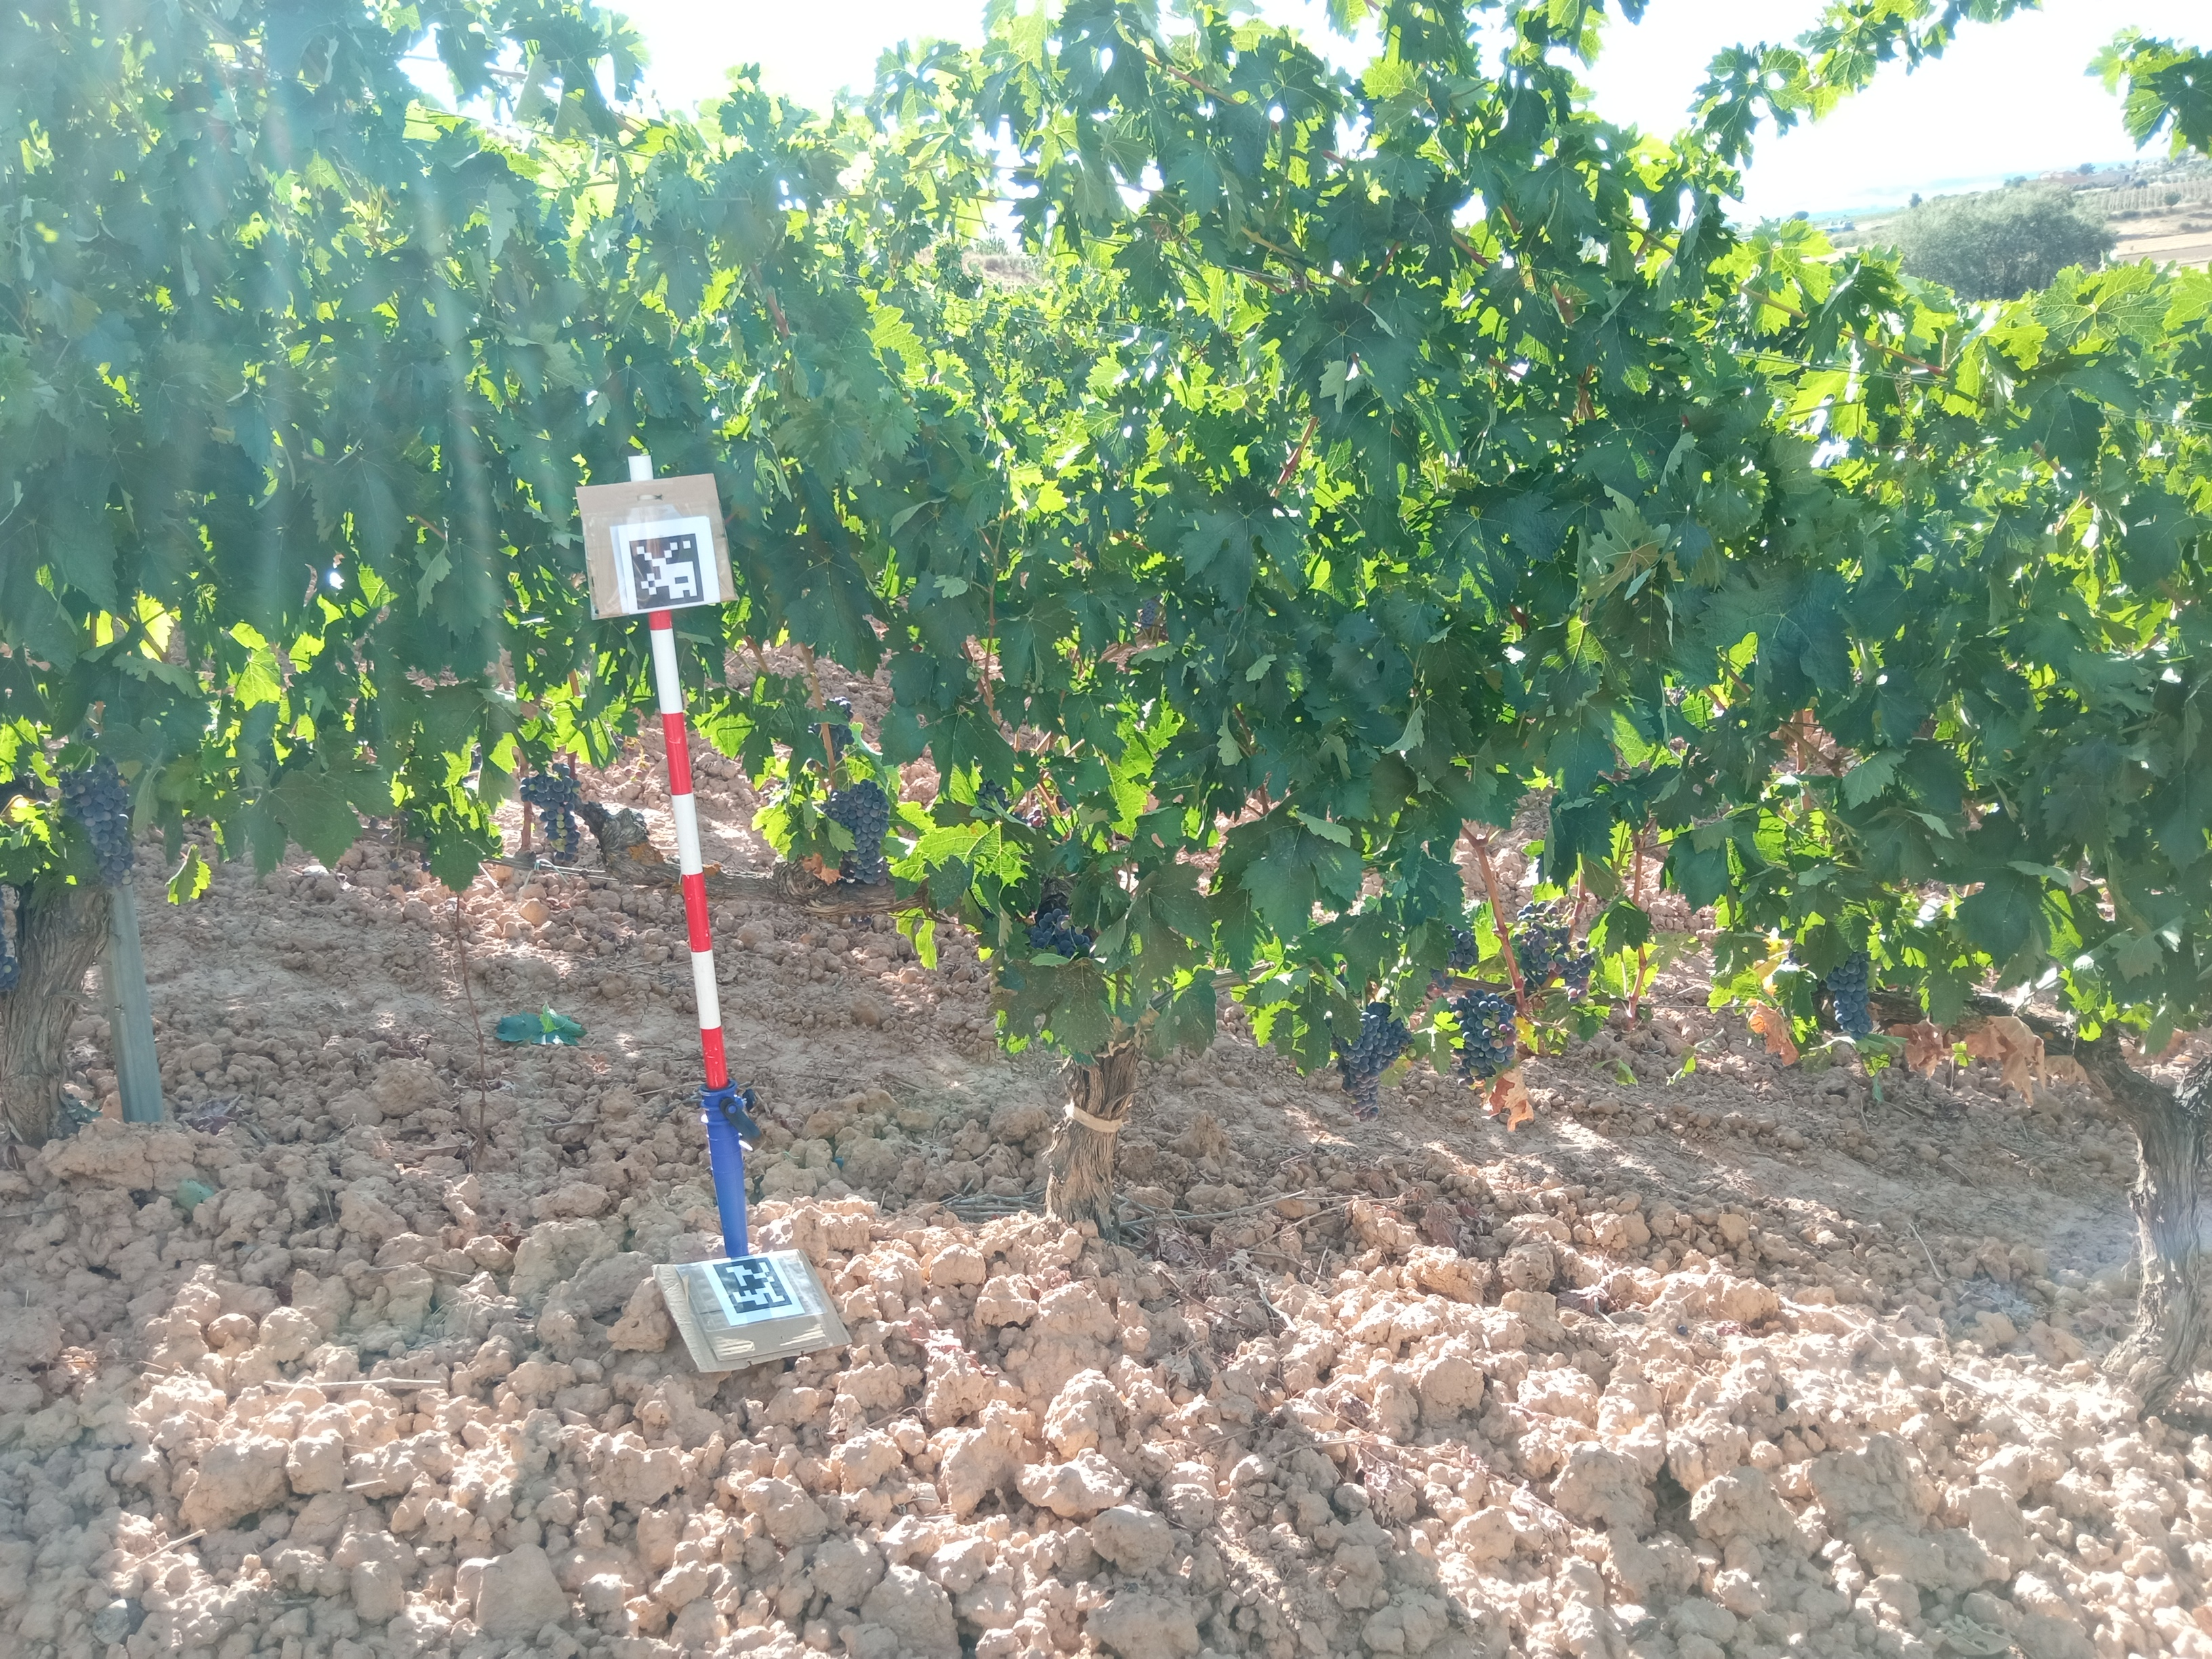grapes: (52, 751, 139, 890), (1332, 1033, 1418, 1126), (517, 763, 585, 863), (827, 784, 892, 885), (1447, 993, 1517, 1084), (1512, 899, 1571, 988), (1827, 953, 1879, 1040), (1029, 908, 1094, 958), (1432, 927, 1480, 993), (824, 695, 859, 760), (1350, 999, 1411, 1035), (2, 915, 23, 993), (1568, 939, 1597, 993), (975, 775, 1014, 816)
